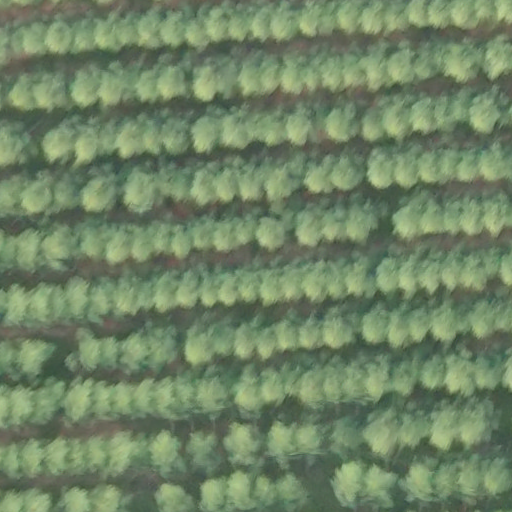eucalipto: (22, 172, 78, 213), (238, 55, 285, 99), (458, 402, 499, 449), (121, 169, 161, 213), (79, 174, 122, 214), (88, 382, 128, 425), (363, 410, 400, 454), (329, 462, 364, 508), (395, 463, 435, 503), (443, 43, 482, 84), (224, 423, 261, 466), (18, 336, 53, 381), (140, 325, 175, 369), (196, 376, 231, 419), (368, 462, 398, 512), (97, 69, 133, 110), (232, 370, 264, 416), (30, 381, 62, 427), (40, 128, 79, 165), (443, 356, 476, 399), (190, 169, 226, 208), (115, 120, 149, 161), (361, 50, 394, 92), (381, 104, 417, 142), (70, 72, 104, 112), (69, 331, 101, 373), (63, 380, 92, 426), (394, 154, 430, 191), (4, 76, 38, 115), (149, 429, 178, 474), (153, 481, 195, 512), (324, 109, 360, 145), (410, 98, 445, 135), (149, 378, 179, 421), (265, 421, 295, 464), (185, 432, 218, 471), (161, 117, 193, 157), (483, 37, 512, 81), (348, 203, 379, 244), (43, 229, 74, 270), (300, 261, 328, 306), (132, 380, 162, 422), (329, 417, 362, 455), (457, 460, 482, 510), (431, 404, 457, 452), (276, 472, 308, 511), (484, 191, 512, 235), (278, 261, 306, 305), (468, 100, 502, 136), (182, 328, 214, 366), (108, 430, 135, 475), (190, 116, 221, 155), (250, 114, 285, 148), (418, 152, 453, 186), (366, 155, 400, 190), (94, 16, 125, 54), (137, 8, 165, 50), (344, 257, 372, 299), (227, 469, 254, 512), (221, 115, 253, 151), (295, 208, 323, 249), (198, 475, 229, 512), (480, 147, 512, 182), (108, 381, 140, 416), (250, 1, 276, 44), (16, 229, 42, 272), (387, 49, 418, 85), (303, 159, 334, 195), (392, 204, 423, 240), (157, 62, 187, 99), (120, 333, 147, 374), (272, 1, 298, 43), (330, 157, 362, 191), (215, 168, 245, 204), (19, 439, 44, 482), (260, 266, 286, 307), (159, 11, 187, 49), (324, 316, 356, 349), (206, 324, 238, 357), (361, 309, 389, 346), (301, 369, 326, 410), (453, 91, 485, 123), (257, 218, 288, 251), (104, 232, 134, 266), (459, 258, 488, 293), (73, 17, 99, 56), (154, 274, 180, 313), (173, 379, 199, 418), (65, 275, 87, 321), (435, 97, 463, 133), (361, 104, 386, 144), (420, 351, 445, 391), (34, 80, 67, 110), (92, 482, 125, 512), (282, 57, 308, 95), (485, 459, 511, 497), (431, 306, 458, 342), (5, 285, 28, 327), (392, 360, 418, 397), (286, 113, 315, 146), (238, 270, 266, 304), (192, 67, 219, 102), (455, 150, 482, 185), (422, 200, 449, 235), (474, 357, 501, 392), (177, 270, 200, 311), (136, 70, 162, 106), (462, 197, 486, 236), (414, 49, 443, 81), (114, 277, 137, 317), (75, 128, 99, 166), (116, 14, 142, 49), (25, 22, 51, 57), (337, 1, 362, 37), (46, 19, 71, 55), (95, 122, 120, 158), (378, 257, 403, 293), (470, 305, 495, 341), (319, 61, 348, 92), (205, 6, 229, 43), (9, 385, 30, 427), (435, 462, 455, 506), (261, 371, 286, 406), (451, 1, 480, 31), (97, 335, 121, 371), (264, 170, 293, 199), (228, 1, 248, 43), (342, 60, 370, 90), (367, 362, 388, 402), (59, 484, 89, 512), (296, 426, 323, 457), (46, 436, 68, 474), (155, 222, 180, 255), (30, 282, 51, 321), (276, 321, 300, 355), (402, 419, 428, 450), (399, 261, 422, 296), (218, 273, 239, 311), (323, 365, 343, 404), (300, 1, 321, 38), (80, 230, 104, 262), (441, 260, 464, 293), (419, 263, 445, 292), (213, 223, 238, 253), (362, 1, 384, 35), (322, 210, 345, 242), (407, 311, 430, 343), (255, 474, 278, 506), (172, 224, 193, 259), (299, 321, 325, 349), (144, 120, 163, 158), (86, 434, 105, 472), (200, 271, 218, 311), (386, 1, 407, 35), (132, 228, 153, 262), (137, 279, 158, 313), (45, 286, 66, 320), (235, 323, 256, 357), (187, 19, 209, 51), (345, 369, 365, 404), (302, 64, 327, 91), (239, 177, 264, 204), (25, 487, 52, 512), (193, 224, 217, 252), (388, 312, 407, 347), (407, 1, 430, 29), (429, 1, 451, 30), (445, 202, 463, 237), (67, 437, 83, 476), (4, 440, 20, 479), (257, 330, 277, 361), (236, 216, 255, 246), (1, 489, 25, 512), (1, 391, 13, 429), (499, 252, 512, 287), (475, 1, 497, 21), (497, 1, 512, 25)
